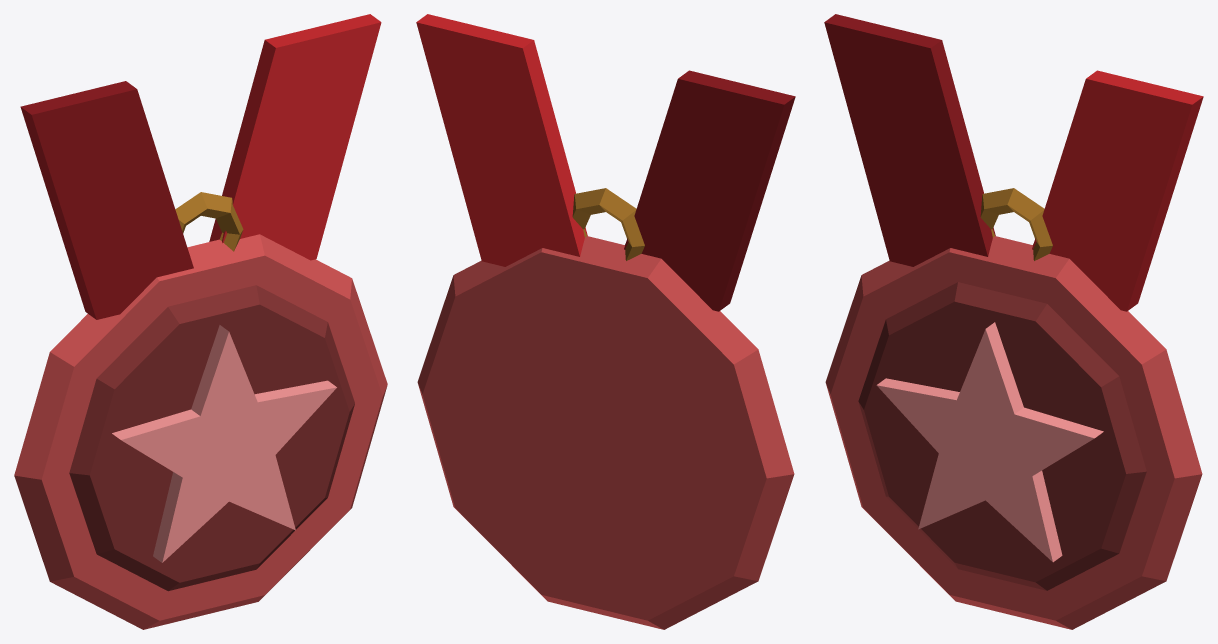
The model's file is badge.glb.
3 renders of one model, left to right at view 1: azimuth 30°, elevation 25°; view 2: azimuth 150°, elevation 25°; view 3: azimuth 330°, elevation 25°, orthographic.
Parts seen in each view (by area): view 1: badge; view 2: badge; view 3: badge.
Part boxes in pixels (x1,y1,x2,y2): badge: [14, 14, 387, 629]; badge: [416, 14, 795, 629]; badge: [824, 14, 1203, 629].
Size of the model in its own units: 0.23 by 0.3244 by 0.042.
